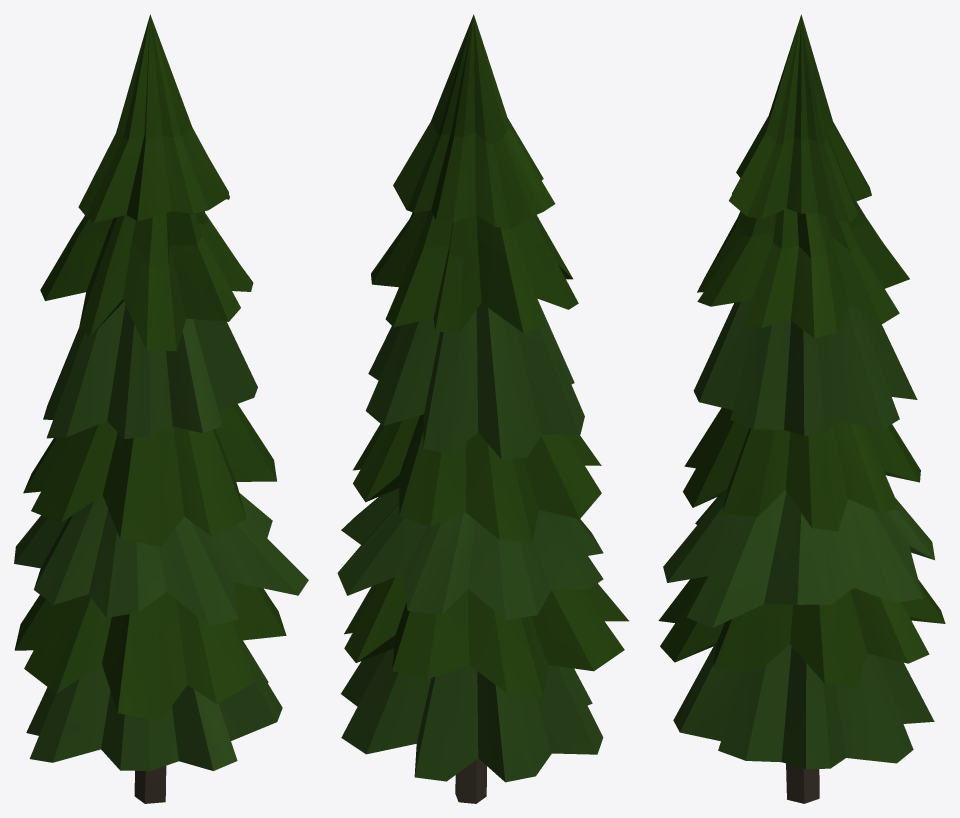
File: Forest_A_FirTree_04.fbx
3 renders of one model, left to right at view 1: azimuth 30°, elevation 25°; view 2: azimuth 150°, elevation 25°; view 3: azimuth 270°, elevation 25°, orthographic.
Parts seen in each view (by area): view 1: Forest_A_FirTree_04; view 2: Forest_A_FirTree_04; view 3: Forest_A_FirTree_04.
Boxes of the visible parts, left/top/right/bottom form: Forest_A_FirTree_04: left=14, top=14, right=308, bottom=803; Forest_A_FirTree_04: left=337, top=14, right=628, bottom=803; Forest_A_FirTree_04: left=658, top=14, right=945, bottom=803.
Size of the model in its own units: 191 by 587 by 195.
